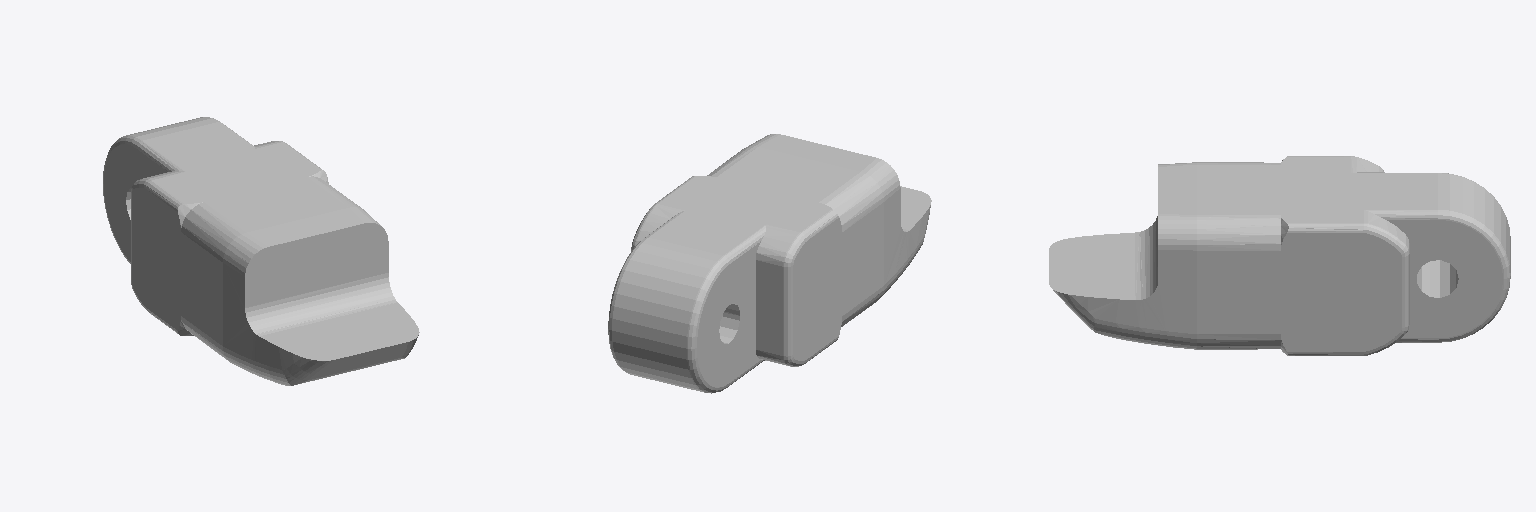
Rendered from tesollo_left_ll_dg_1_4_visuals_ll_dg_1_4_mesh.obj.
3 renders of one model, left to right at view 1: azimuth 30°, elevation 25°; view 2: azimuth 150°, elevation 25°; view 3: azimuth 270°, elevation 25°, orthographic.
Size of the model in its own units: 0.0224 by 0.019 by 0.06.